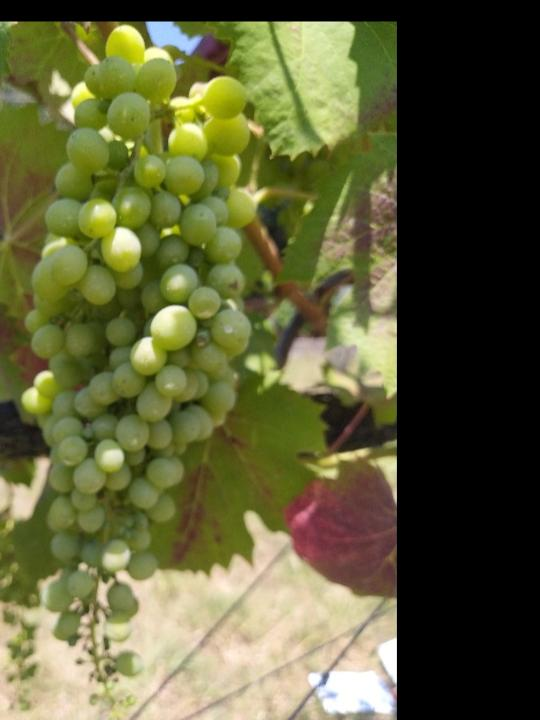grape: (19, 24, 259, 720)
